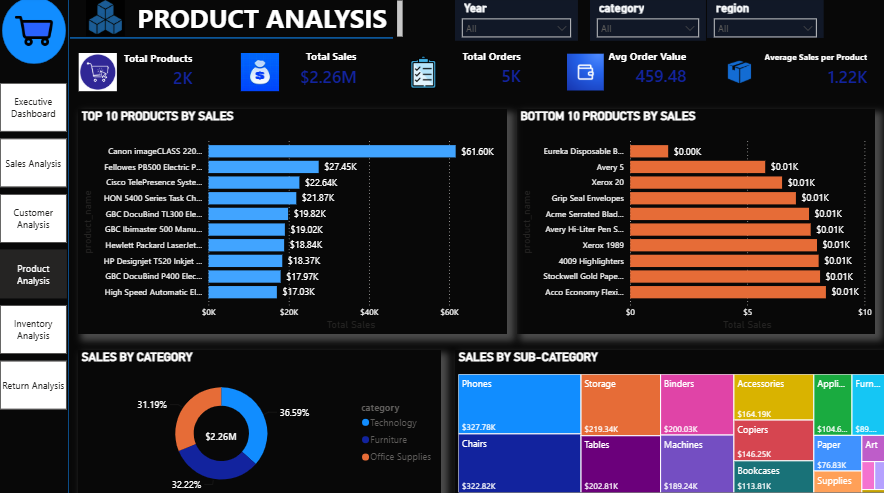

Layout of this report page (visuals, bound fields, positions):
{"tool":"powerbi","page":{"name":"Product Analysis","canvas":[1280,720],"ordinal":3},"visuals":[{"type":"slicer","fields":{"Values":["DimDate.Year"]},"box":[656.8,0,177.1,63.4],"z":0},{"type":"cardVisual","fields":{"Data":["DimDate.Total Orders"]},"box":[567.4,59,213.1,99.4],"z":1000},{"type":"cardVisual","fields":{"Data":["DimDate.Total Sales"]},"box":[329.8,63.4,214.6,95],"z":2000},{"type":"cardVisual","fields":{"Data":["DimDate.Average Order Value"]},"box":[800.6,59,218.9,99.4],"z":3000},{"type":"cardVisual","fields":{"Data":["DimDate.Total Products"]},"box":[103.7,61.9,204.5,99.4],"z":4000},{"type":"slicer","fields":{"Values":["public orders.region"]},"box":[1019.6,0,168.5,59],"z":5000},{"type":"slicer","fields":{"Values":["public products.category"]},"box":[851.7,0,167,63.4],"z":6000},{"type":"donutChart","title":"SALES BY CATEGORY","fields":{"Category":["public products.category"],"Y":["DimDate.Total Sales"]},"box":[113.8,508.3,522.7,210.2],"z":7000},{"type":"clusteredBarChart","title":"TOP 10 PRODUCTS BY SALES","fields":{"Category":["public products.product_name"],"Y":["DimDate.Total Sales"]},"box":[113.8,161.3,617.8,324],"z":8000},{"type":"textbox","box":[102.5,0,483.8,75.6],"z":9000},{"type":"shape","box":[102.5,35.3,465.3,48.7],"z":10000},{"type":"shape","box":[0,0,100.8,720],"z":11000},{"type":"treemap","title":" SALES BY SUB-CATEGORY","fields":{"Group":["public products.sub_category"],"Values":["DimDate.Total Sales"]},"box":[656.6,508.3,623.5,210.2],"z":12000},{"type":"shape","box":[4.3,0,92.2,96.5],"z":13000},{"type":"image","box":[341.3,80.6,69.1,54.7],"z":18000},{"type":"image","box":[113.8,80.6,57.6,54.7],"z":19000},{"type":"image","box":[817.9,80.6,53.3,54.7],"z":20000},{"type":"image","box":[586.1,80.6,50.4,54.7],"z":21000},{"type":"image","box":[13,17.3,74.9,63.4],"z":22000},{"type":"pageNavigator","box":[1.4,123.8,96.5,472.3],"z":23000},{"type":"clusteredBarChart","title":"BOTTOM 10 PRODUCTS BY SALES","fields":{"Category":["public products.product_name"],"Y":["DimDate.Total Sales"]},"box":[745.9,161.3,515.5,324],"z":24000},{"type":"cardVisual","fields":{"Data":["DimDate.Total Sales"]},"box":[243.4,596.2,128.2,74.9],"z":25000},{"type":"cardVisual","fields":{"Data":["DimDate.Average Sales per Product"]},"box":[1038.2,63.4,241.9,95],"z":26000},{"type":"image","box":[1038.2,80.6,56.2,54.7],"z":28000},{"type":"image","box":[115.9,1.7,75.6,55.4],"z":28001}]}

Visuals, with their boxes on the page's 1280x720 design canvas (x1, y1, x2, y2). These are canvas units, not pixel positions in the 884x493 screenshot, which may show the page scaled, cropped or inside an application window:
slicer - DimDate.Year: bbox(657, 0, 834, 63)
cardVisual - DimDate.Total Orders: bbox(567, 59, 780, 158)
cardVisual - DimDate.Total Sales: bbox(330, 63, 544, 158)
cardVisual - DimDate.Average Order Value: bbox(801, 59, 1020, 158)
cardVisual - DimDate.Total Products: bbox(104, 62, 308, 161)
slicer - public orders.region: bbox(1020, 0, 1188, 59)
slicer - public products.category: bbox(852, 0, 1019, 63)
"SALES BY CATEGORY" donutChart: bbox(114, 508, 636, 718)
"TOP 10 PRODUCTS BY SALES" clusteredBarChart: bbox(114, 161, 732, 485)
textbox: bbox(102, 0, 586, 76)
shape: bbox(102, 35, 568, 84)
shape: bbox(0, 0, 101, 720)
" SALES BY SUB-CATEGORY" treemap: bbox(657, 508, 1280, 718)
shape: bbox(4, 0, 96, 96)
image: bbox(341, 81, 410, 135)
image: bbox(114, 81, 171, 135)
image: bbox(818, 81, 871, 135)
image: bbox(586, 81, 636, 135)
image: bbox(13, 17, 88, 81)
pageNavigator: bbox(1, 124, 98, 596)
"BOTTOM 10 PRODUCTS BY SALES" clusteredBarChart: bbox(746, 161, 1261, 485)
cardVisual - DimDate.Total Sales: bbox(243, 596, 372, 671)
cardVisual - DimDate.Average Sales per Product: bbox(1038, 63, 1280, 158)
image: bbox(1038, 81, 1094, 135)
image: bbox(116, 2, 192, 57)
